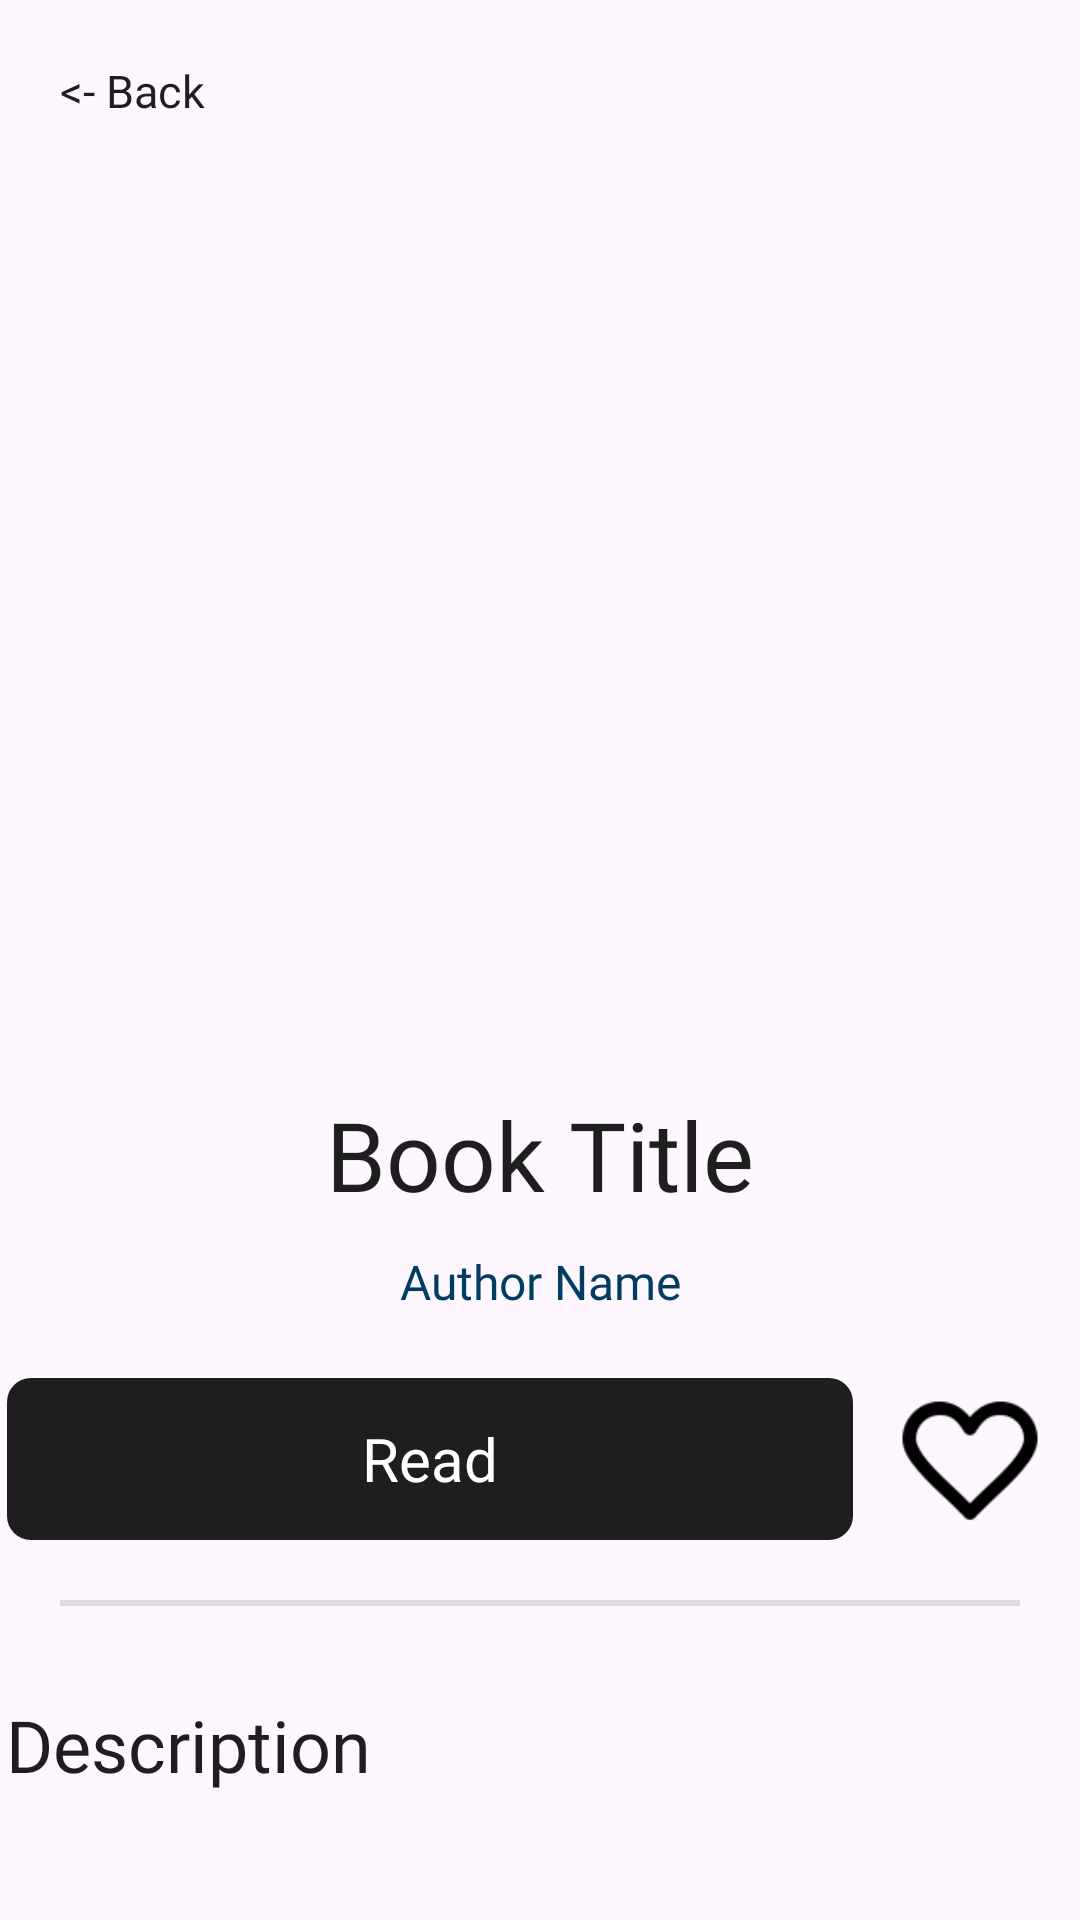

Icons on this 1080x1920 Android screen, each with its box as detection(x1, y1, x2, y2):
favorite: detection(902, 1401, 1038, 1520)
